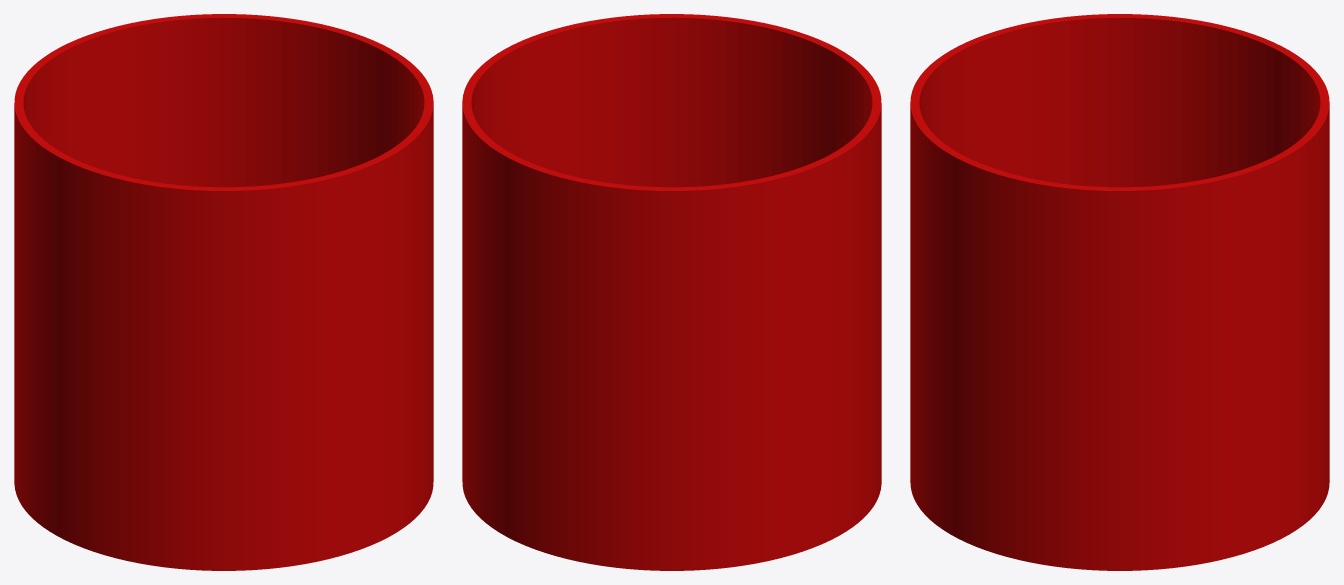
The picture shows the model from 3 angles, left to right: view 1: azimuth 30°, elevation 25°; view 2: azimuth 150°, elevation 25°; view 3: azimuth 270°, elevation 25°; orthographic projection.
Visible parts, largest first — view 1: pCylinder1; view 2: pCylinder1; view 3: pCylinder1.
Boxes of the visible parts, x1,y1,x2,y2 form: pCylinder1: (14,14,433,570); pCylinder1: (462,14,881,570); pCylinder1: (910,14,1329,570).
Bounding box in the file's own units: 38 × 38 × 38.
